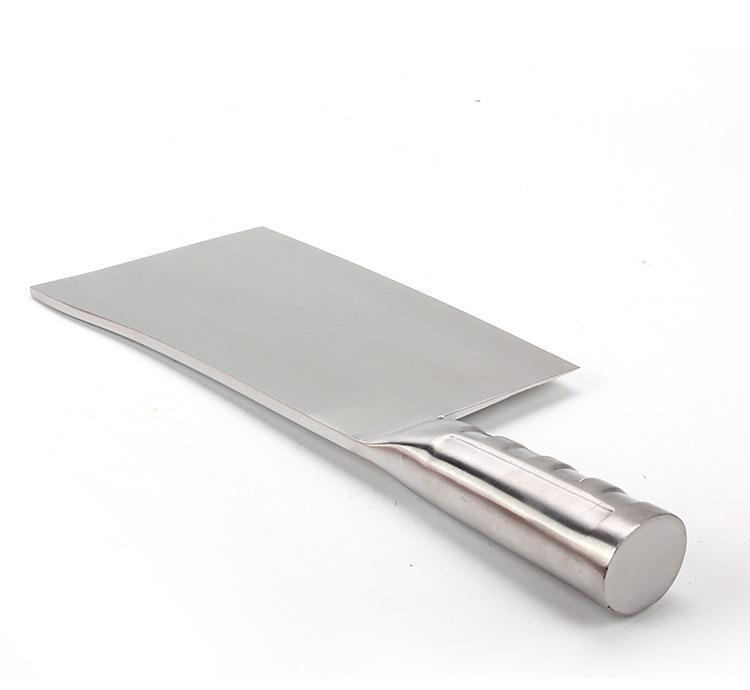knief: (48, 186, 684, 622)
